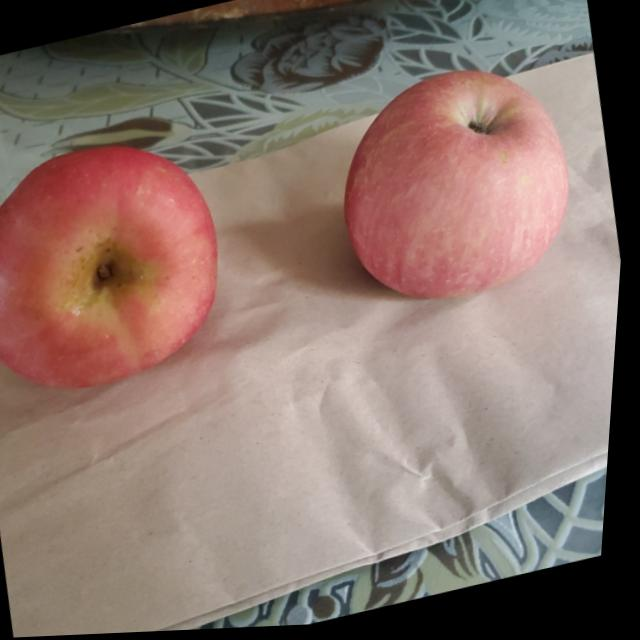apple: (320, 54, 596, 329), (0, 124, 245, 413)
